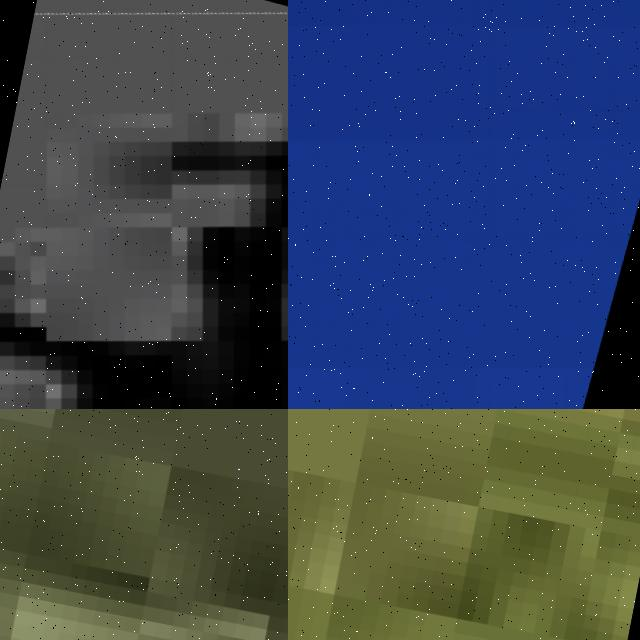drone: (288, 0, 640, 409), (0, 0, 288, 409)
